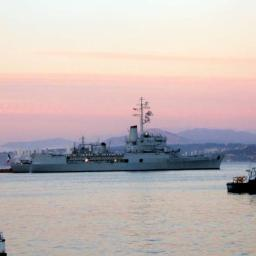Portanaves: (7, 96, 228, 177)
